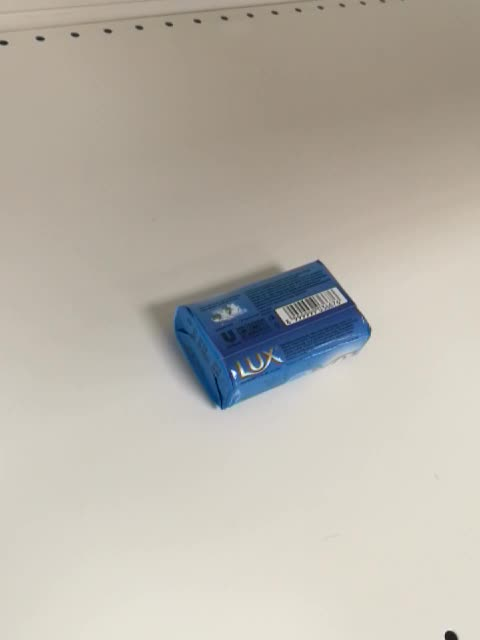soap: (173, 256, 374, 412)
